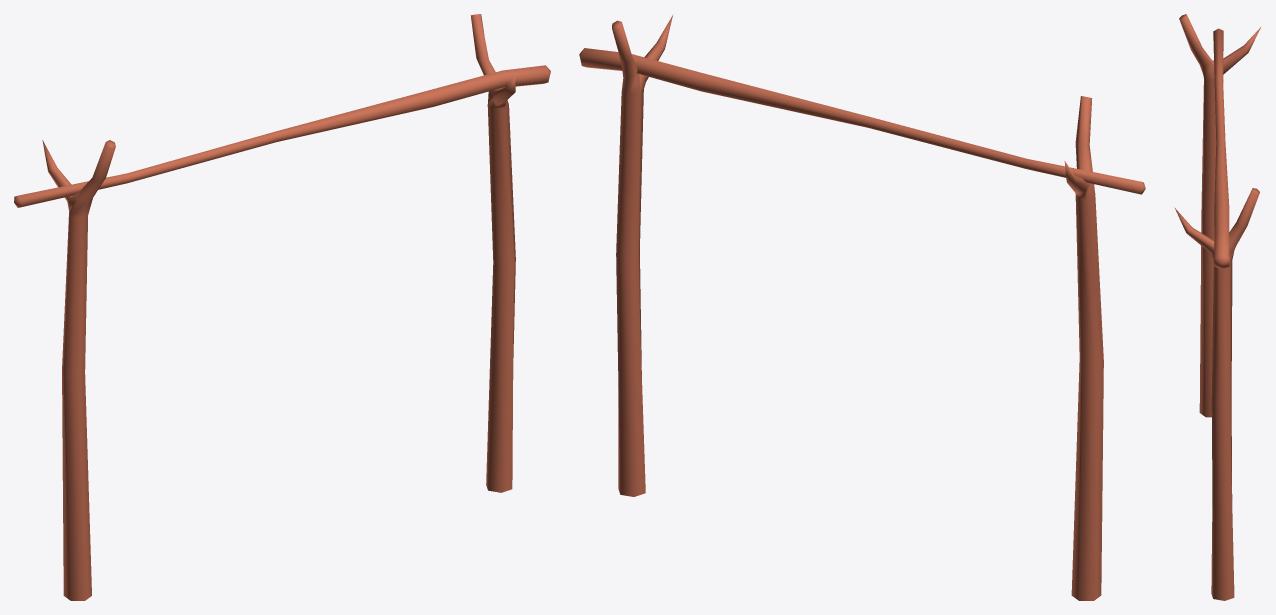
File: Hanger_wood.fbx
3 views of the same model, side by side, from view 1: azimuth 30°, elevation 25°; view 2: azimuth 150°, elevation 25°; view 3: azimuth 270°, elevation 25° (orthographic). The views are drawn at different scales.
Visible parts, largest first — view 1: Hanger_wood; view 2: Hanger_wood; view 3: Hanger_wood.
Boxes of the visible parts, <box> form: Hanger_wood: <box>14,14,550,600</box>; Hanger_wood: <box>579,14,1145,600</box>; Hanger_wood: <box>1174,14,1260,600</box>.
Size of the model in its own units: 216 by 177 by 34.52.
